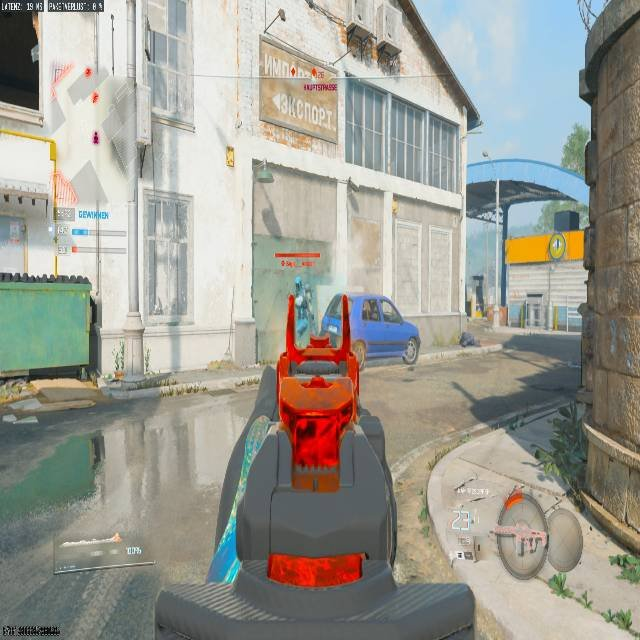head: (294, 276, 302, 287)
player: (287, 276, 312, 355), (292, 275, 307, 314), (292, 271, 309, 298)
